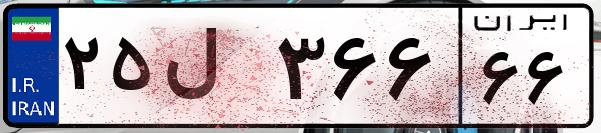2: (57, 26, 110, 100)
3: (270, 28, 330, 110)
5: (110, 28, 158, 98)
6: (385, 28, 445, 110), (330, 28, 385, 110), (475, 38, 525, 113), (525, 38, 570, 115)
ل: (158, 20, 270, 120)
